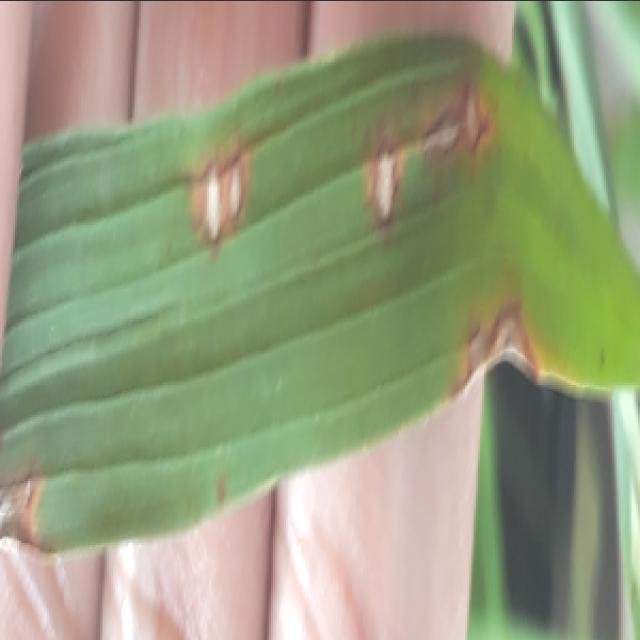Brown_Spot: (344, 70, 506, 250), (180, 154, 280, 258)
